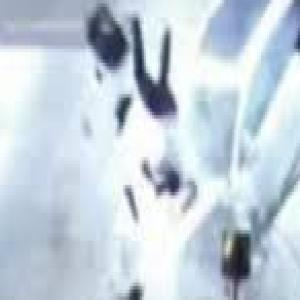severe: (117, 0, 300, 290)
